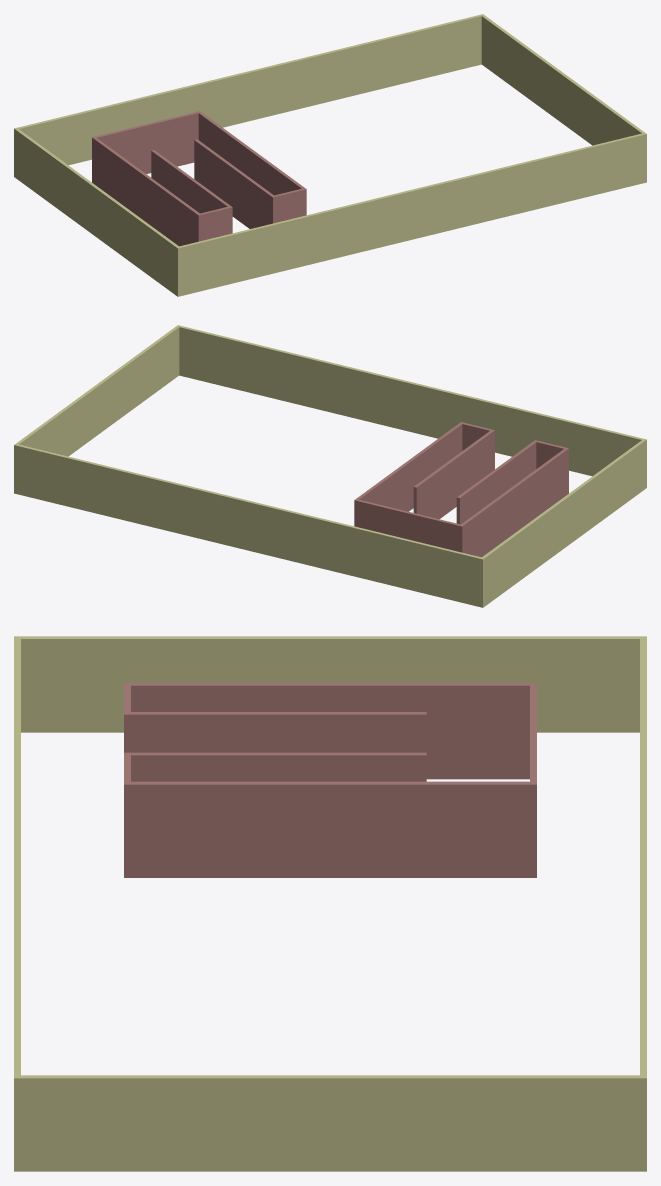
The model's file is depot_simple_18x30_v3.dae.
3 renders of one model, top to bottom at view 1: azimuth 30°, elevation 25°; view 2: azimuth 150°, elevation 25°; view 3: azimuth 270°, elevation 25°, orthographic. The views are drawn at different scales.
Parts seen in each view (by area): view 1: node1, node0; view 2: node1, node0; view 3: node1, node0.
Part boxes in pixels (x1,y1,x2,y2): node1: (14,14,646,296); node0: (92,111,306,246); node1: (14,325,646,607); node0: (354,422,568,557); node1: (14,636,646,1171); node0: (124,682,536,877).
Bounding box in the file's own units: 0.0304 × 0.0184 × 0.003.
